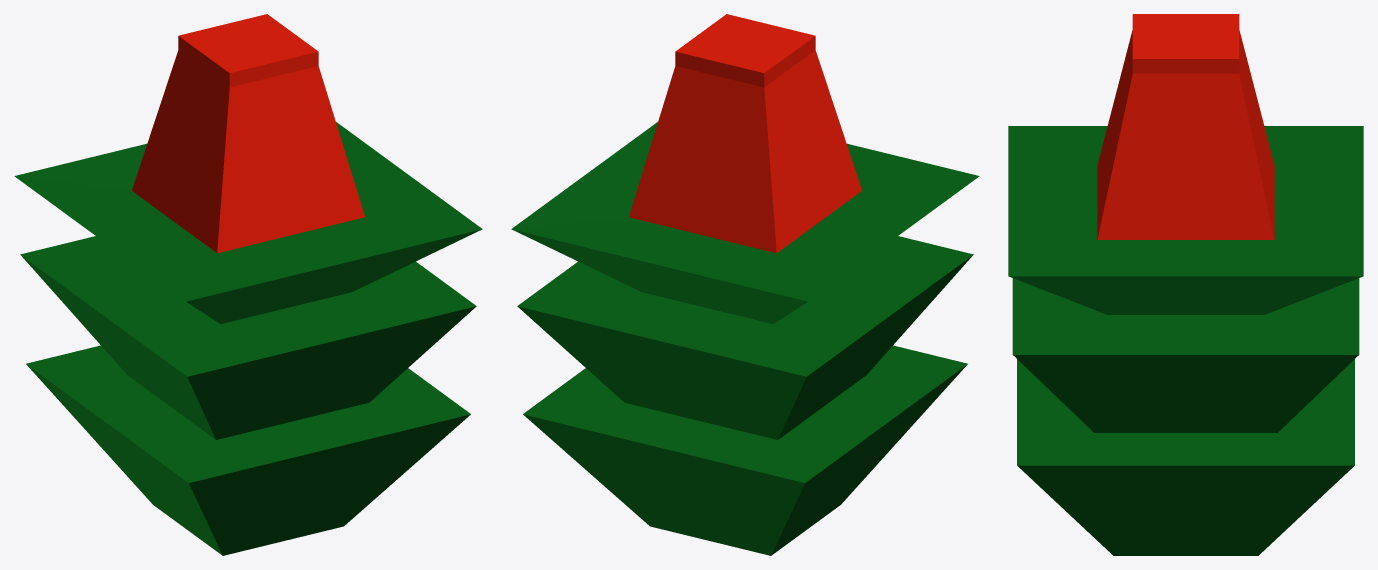
Rendered from small_tropical_plant_2.glb.
3 views of the same model, side by side, from view 1: azimuth 30°, elevation 25°; view 2: azimuth 150°, elevation 25°; view 3: azimuth 270°, elevation 25° (orthographic). The views are drawn at different scales.
Parts seen in each view (by area): view 1: bromelade; view 2: bromelade; view 3: bromelade.
Part boxes in pixels (x1,y1,x2,y2): bromelade: [14, 14, 482, 555]; bromelade: [511, 14, 979, 555]; bromelade: [1008, 14, 1363, 555].
Bounding box in the file's own units: 4.91 × 7.45 × 4.91.
